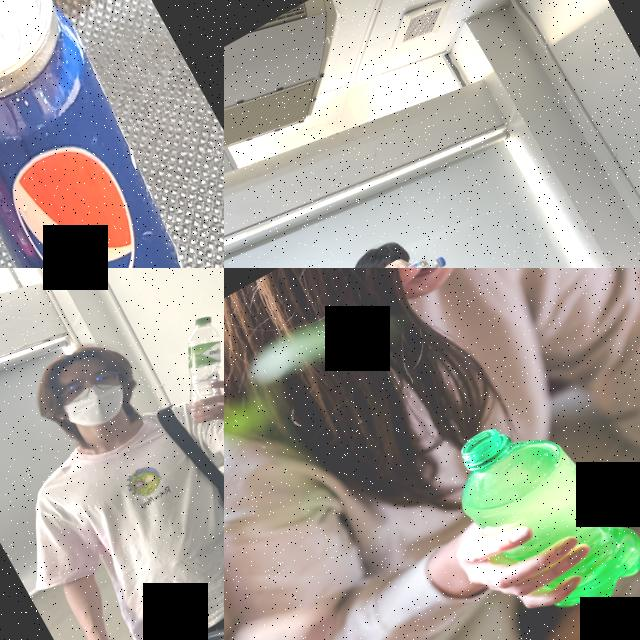bottle: (425, 392, 640, 640), (149, 311, 224, 421), (343, 246, 451, 268)
can: (0, 0, 224, 268)
